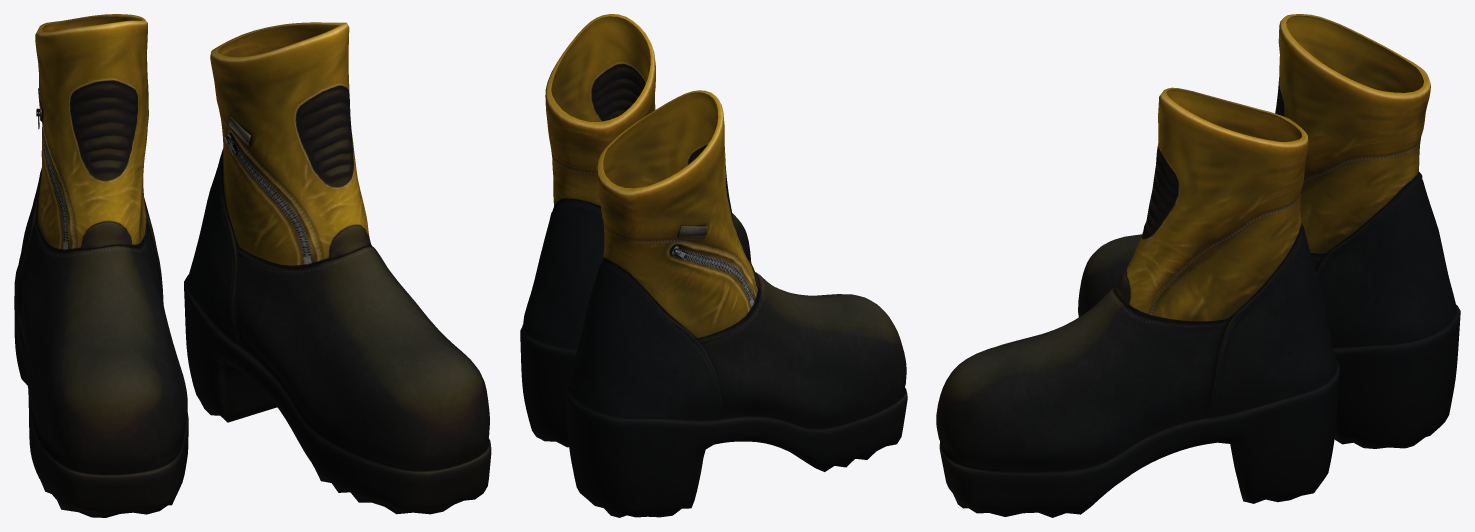
File: yellow_leather_boots.glb
The picture shows the model from 3 angles, left to right: view 1: azimuth 30°, elevation 25°; view 2: azimuth 150°, elevation 25°; view 3: azimuth 270°, elevation 25°; orthographic projection. The views are drawn at different scales.
Parts seen in each view (by area): view 1: Boot_Final; view 2: Boot_Final; view 3: Boot_Final.
Boxes of the visible parts, left/top/right/bottom form: Boot_Final: left=14, top=14, right=491, bottom=517; Boot_Final: left=520, top=14, right=907, bottom=517; Boot_Final: left=936, top=14, right=1460, bottom=517.
Size of the model in its own units: 4.79 by 5.15 by 6.19.
Materials: 1 (1 with a texture image).
